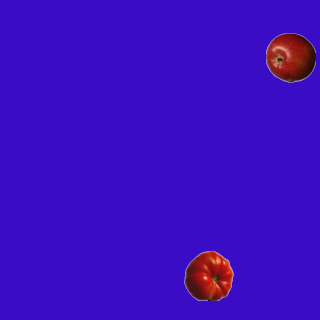Apple Braeburn: (265, 32, 315, 82)
Tomato 3: (183, 250, 233, 300)
